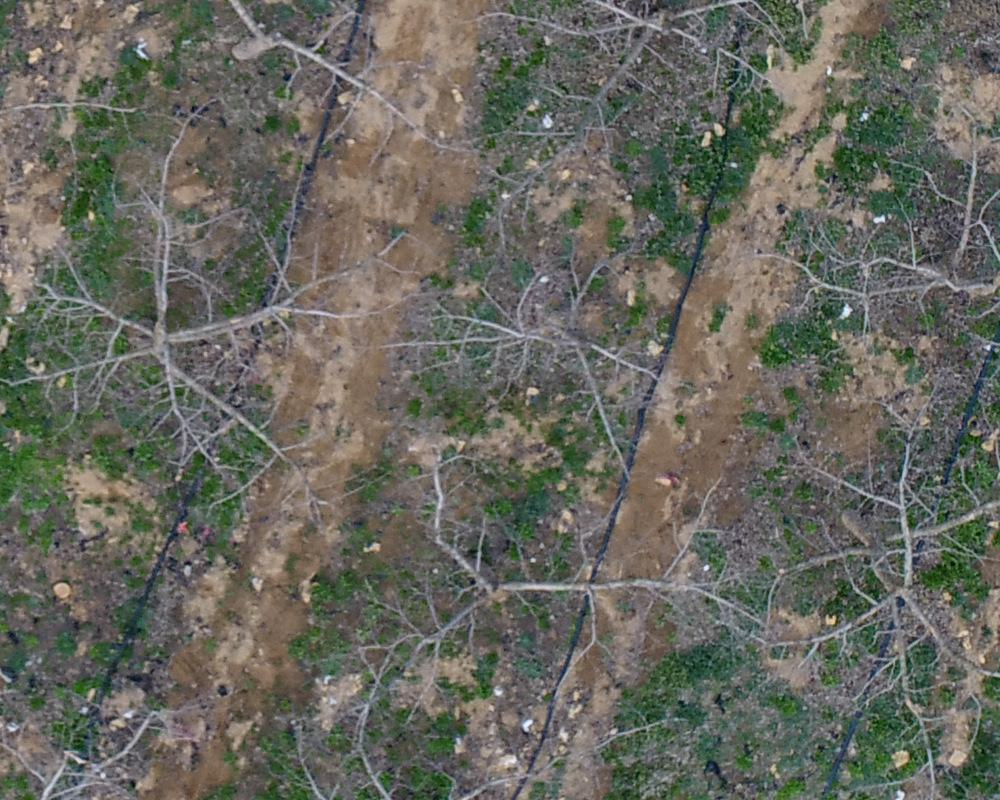apple: (10, 105, 407, 536), (349, 449, 763, 688), (739, 414, 990, 790), (371, 233, 685, 491), (758, 108, 990, 439), (451, 10, 831, 198), (94, 10, 490, 165)
